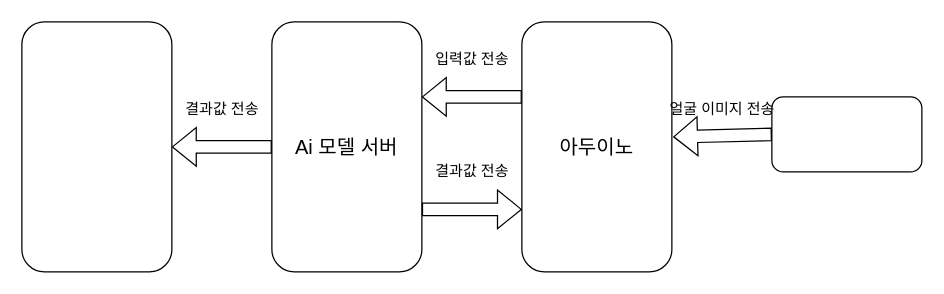
This 944x294 diagram has some shape labels left out. The box of each missing label's shape, as (x1, y1, x2, y2) in pixels:
모바일 앱: (21, 21, 172, 272)
카메라: (771, 96, 922, 172)
